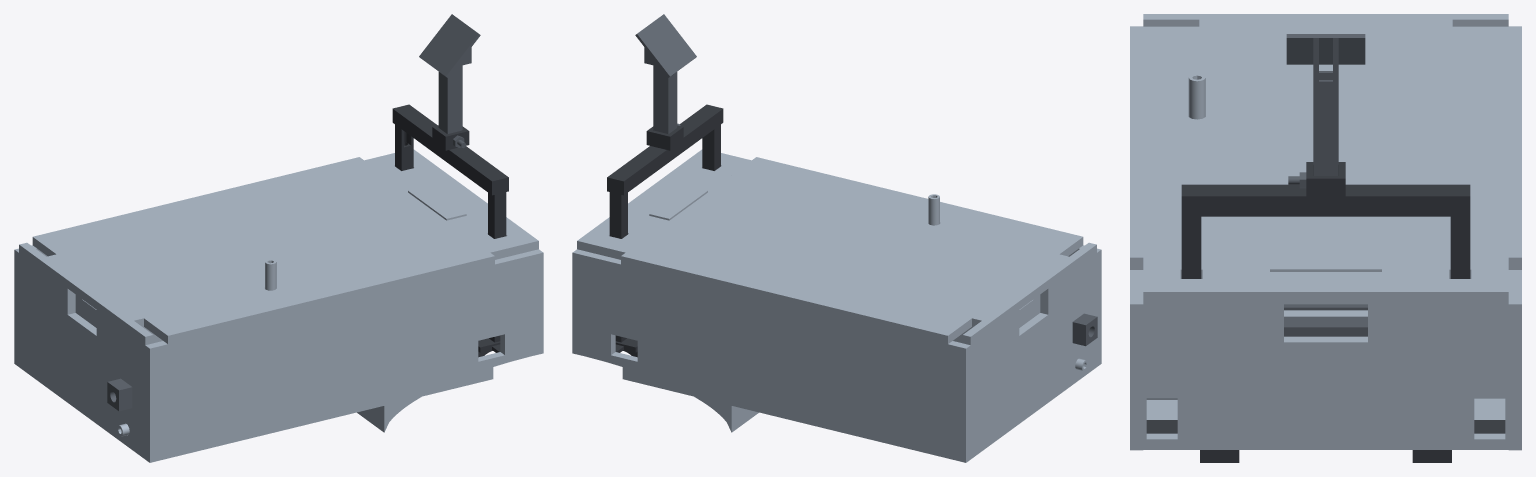
File: pod.glb
3 renders of one model, left to right at view 1: azimuth 30°, elevation 25°; view 2: azimuth 150°, elevation 25°; view 3: azimuth 270°, elevation 25°, orthographic. The views are drawn at different scales.
Visible parts, largest first — view 1: POD-001, POD-003, POD-007, POD-005, POD-006; view 2: POD-001, POD-003, POD-007, POD-005, POD-006; view 3: POD-003, POD-001, POD-007, POD-005, POD-002, POD-004.
Part boxes in pixels (bbox=[...]): POD-001: bbox=[14, 149, 543, 462]; POD-003: bbox=[32, 157, 494, 343]; POD-007: bbox=[392, 104, 508, 357]; POD-005: bbox=[419, 14, 480, 133]; POD-006: bbox=[107, 378, 132, 411]; POD-001: bbox=[572, 149, 1101, 462]; POD-003: bbox=[621, 157, 1083, 343]; POD-007: bbox=[607, 104, 723, 357]; POD-005: bbox=[635, 14, 696, 133]; POD-006: bbox=[1072, 313, 1097, 346]; POD-003: bbox=[1130, 26, 1521, 271]; POD-001: bbox=[1130, 14, 1521, 450]; POD-007: bbox=[1146, 162, 1505, 462]; POD-005: bbox=[1286, 34, 1365, 175]; POD-002: bbox=[1146, 304, 1367, 399]; POD-004: bbox=[1284, 316, 1367, 323].
Size of the model in its own units: 0.243 by 0.1843 by 0.14.
